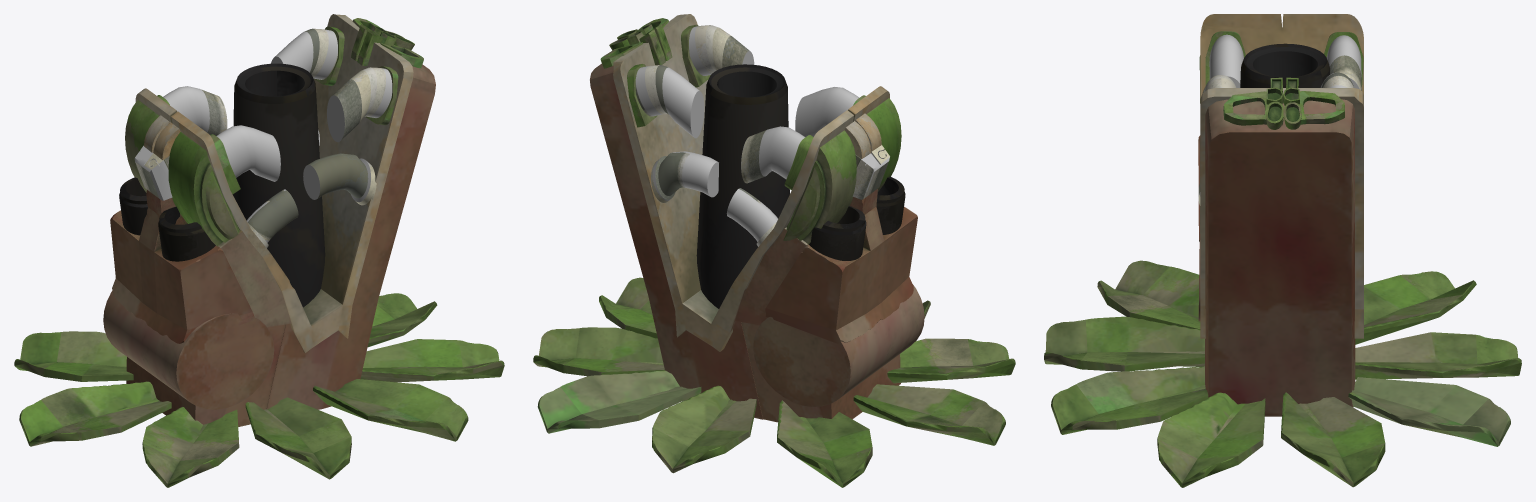
File: Tour6MortierM.fbx
The picture shows the model from 3 angles, left to right: view 1: azimuth 30°, elevation 25°; view 2: azimuth 150°, elevation 25°; view 3: azimuth 270°, elevation 25°; orthographic projection. The views are drawn at different scales.
Parts seen in each view (by area): view 1: Cube.021, Canon, Cube.018, Cube.053_dmg, Cylinder.017, Cube.002_dmg.009, Cube.002_dmg.008, Cube.002_dmg.003, Cube.002_dmg.005, Cube.002_dmg.007, Cube.002_dmg.002, Cylinder.016 (+16 smaller); view 2: Cube.021, Canon, Cube.053_dmg, Cube.018, Cylinder.017, Cube.002_dmg.006, Cube.002_dmg.001, Cube.002_dmg.009, Cube.002_dmg.004, Cube.002_dmg.002, Cylinder.015, Cube.002_dmg.005 (+17 smaller); view 3: Cube.018, Cube.021, Cube.002_dmg.008, Cube.002_dmg.003, Cube.002_dmg.007, Cube.002_dmg.006, Cube.002_dmg.001, Cube.002_dmg.004, Cube.002_dmg.002, Cube.002_dmg.005, Canon, Cylinder.021 (+3 smaller).
Boxes of the visible parts, left/top/right/bottom form: Cube.021: left=135, top=14, right=413, bottom=353; Canon: left=232, top=63, right=325, bottom=307; Cube.018: left=266, top=64, right=435, bottom=409; Cube.053_dmg: left=110, top=190, right=254, bottom=343; Cylinder.017: left=103, top=290, right=274, bottom=409; Cube.002_dmg.009: left=19, top=381, right=171, bottom=446; Cube.002_dmg.008: left=313, top=379, right=468, bottom=441; Cube.002_dmg.003: left=245, top=397, right=351, bottom=479; Cube.002_dmg.005: left=142, top=407, right=239, bottom=487; Cube.002_dmg.007: left=360, top=339, right=504, bottom=382; Cube.002_dmg.002: left=14, top=331, right=133, bottom=381; Cylinder.016: left=168, top=131, right=239, bottom=246; Cube.021: left=613, top=14, right=889, bottom=351; Canon: left=696, top=64, right=789, bottom=308; Cube.053_dmg: left=765, top=189, right=917, bottom=343; Cube.018: left=590, top=63, right=763, bottom=419; Cylinder.017: left=753, top=284, right=924, bottom=406; Cube.002_dmg.006: left=537, top=370, right=701, bottom=433; Cube.002_dmg.001: left=652, top=385, right=756, bottom=473; Cube.002_dmg.009: left=853, top=384, right=1005, bottom=445; Cube.002_dmg.004: left=533, top=327, right=664, bottom=376; Cube.002_dmg.002: left=777, top=400, right=872, bottom=487; Cylinder.015: left=783, top=130, right=856, bottom=244; Cube.002_dmg.005: left=887, top=338, right=1015, bottom=383; Cube.018: left=1205, top=99, right=1355, bottom=416; Cube.021: left=1200, top=14, right=1363, bottom=338; Cube.002_dmg.008: left=1051, top=366, right=1208, bottom=434; Cube.002_dmg.003: left=1044, top=316, right=1204, bottom=371; Cube.002_dmg.007: left=1157, top=392, right=1265, bottom=487; Cube.002_dmg.006: left=1348, top=377, right=1510, bottom=446; Cube.002_dmg.001: left=1355, top=332, right=1521, bottom=379; Cube.002_dmg.004: left=1281, top=392, right=1385, bottom=487; Cube.002_dmg.002: left=1355, top=271, right=1476, bottom=344; Cube.002_dmg.005: left=1097, top=260, right=1200, bottom=329; Canon: left=1240, top=43, right=1330, bottom=87; Cylinder.021: left=1209, top=34, right=1243, bottom=87.
Bounding box in the file's own units: 59.89 × 44.41 × 52.68.
